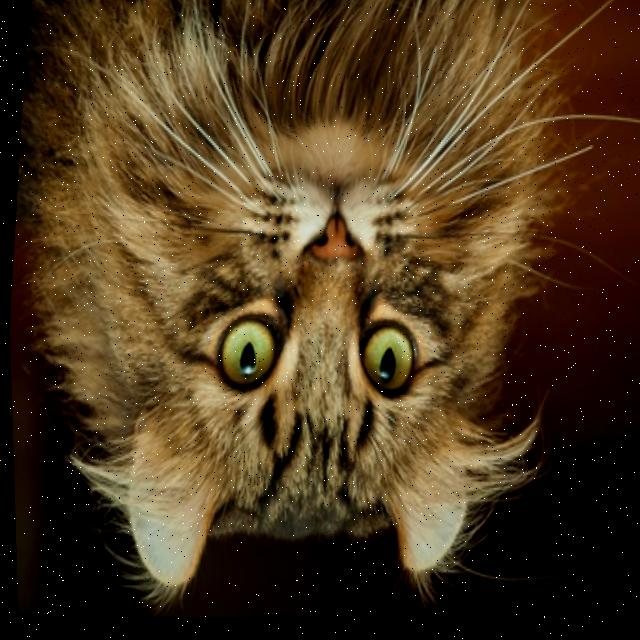American Curl: (0, 0, 585, 640)
